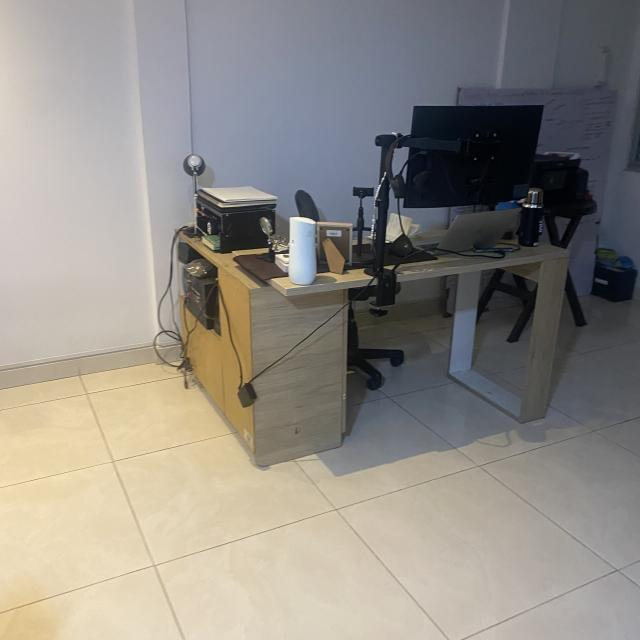obstacle: (168, 127, 596, 474)
